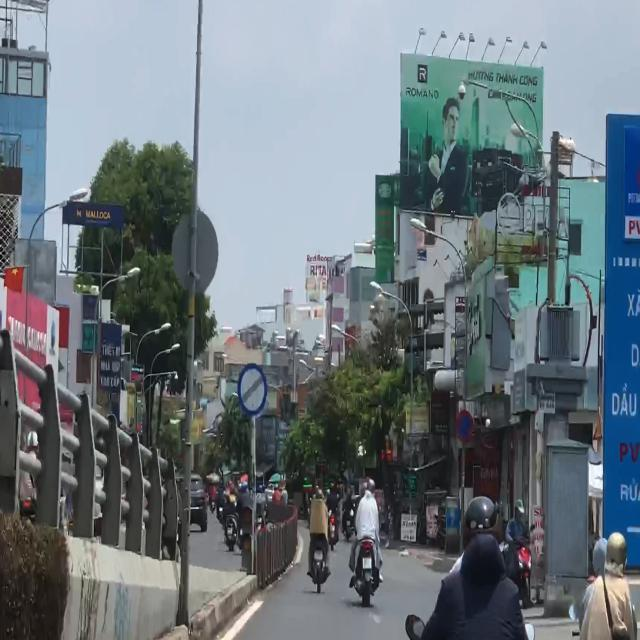Cam do: (454, 409, 474, 444)
Het tat ca lenh cam: (238, 363, 268, 417)
